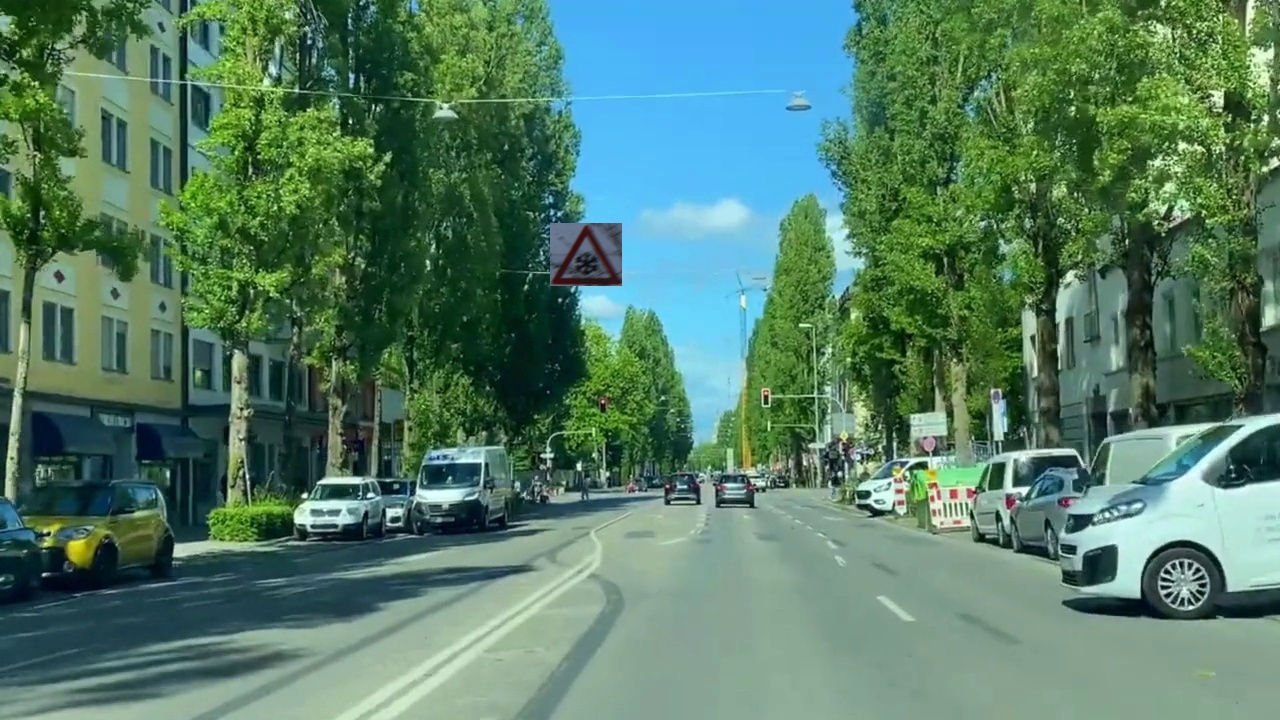Ice/snow: (550, 223, 622, 286)
